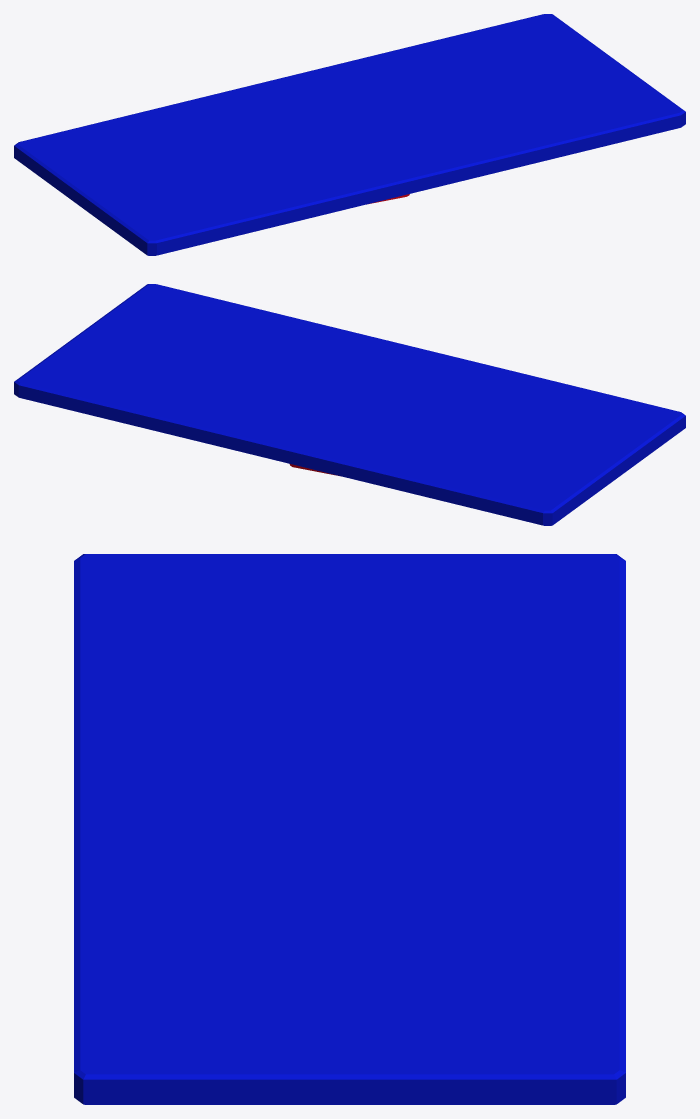
File: FoldingTable_001_Folded.fbx
The picture shows the model from 3 angles, top to bottom: view 1: azimuth 30°, elevation 25°; view 2: azimuth 150°, elevation 25°; view 3: azimuth 270°, elevation 25°; orthographic projection. The views are drawn at different scales.
Parts seen in each view (by area): view 1: FoldingTable_001_Folded; view 2: FoldingTable_001_Folded; view 3: FoldingTable_001_Folded.
Part boxes in pixels (x1,y1,x2,y2): FoldingTable_001_Folded: (14,14,685,255); FoldingTable_001_Folded: (14,284,685,525); FoldingTable_001_Folded: (74,554,625,1104).
Size of the model in its own units: 233 by 8.51 by 103.
